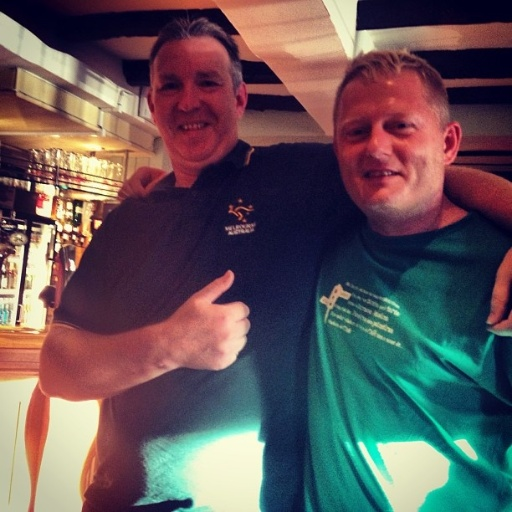hand: (171, 271, 244, 367), (484, 248, 510, 338), (113, 162, 166, 200)
